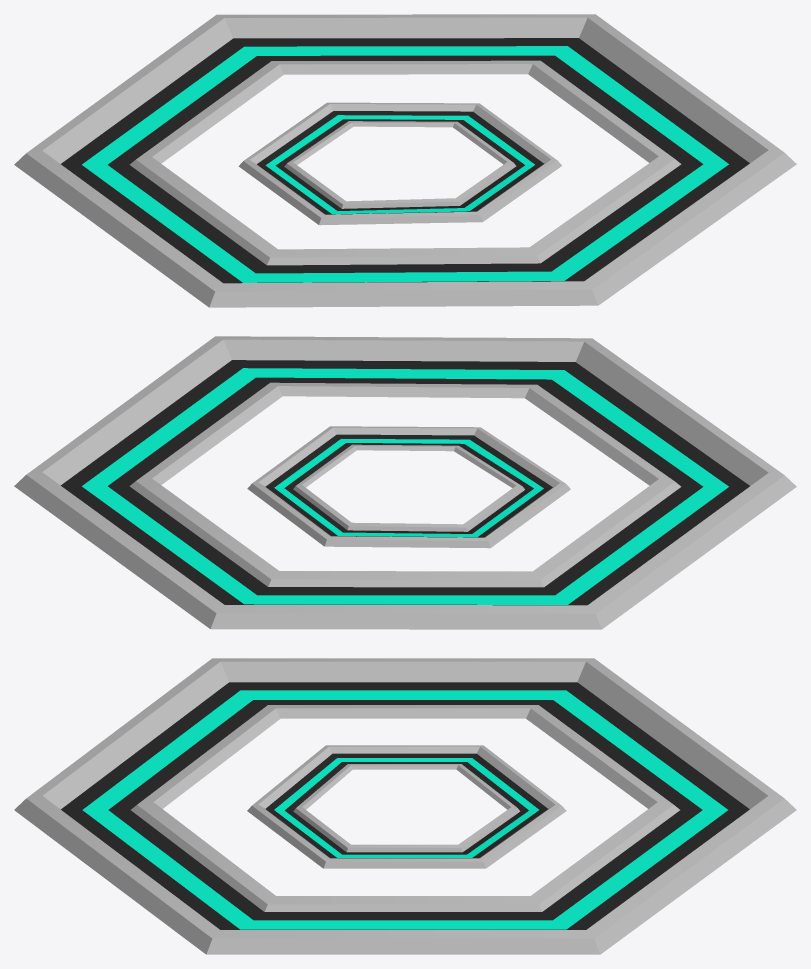
Rendered from teleporter_01.FBX.
3 views of the same model, one above another, from view 1: azimuth 30°, elevation 25°; view 2: azimuth 150°, elevation 25°; view 3: azimuth 270°, elevation 25° (orthographic).
Visible parts, largest first — view 1: teleporter_01; view 2: teleporter_01; view 3: teleporter_01.
Part boxes in pixels (<box>): teleporter_01: <box>14,14,796,307</box>; teleporter_01: <box>14,336,796,629</box>; teleporter_01: <box>14,658,796,954</box>.
Bounding box in the file's own units: 177 × 4.46 × 202.
